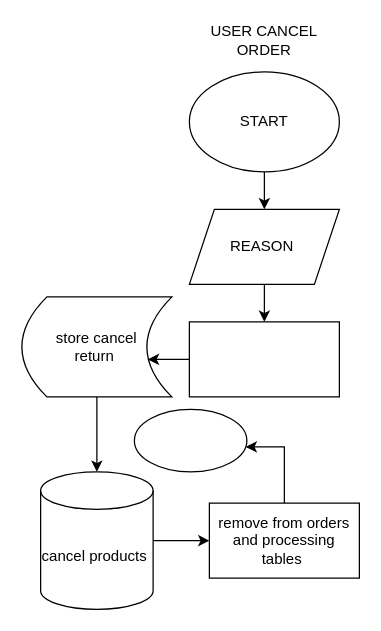
This 381x631 diagram has some shape labels left out. Each missing label, with the centre of its shape:
"END" belongs at (190,440).
"SUBMIT" belongs at (263,359).
